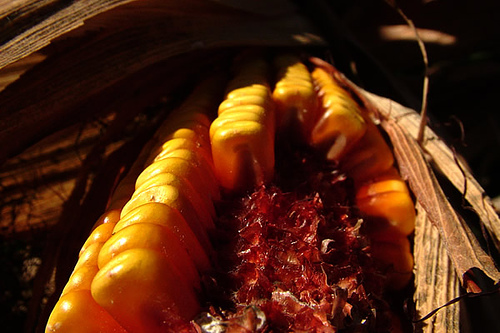corn: (45, 53, 417, 332)
